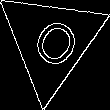O_SW: (21, 8, 81, 75)
